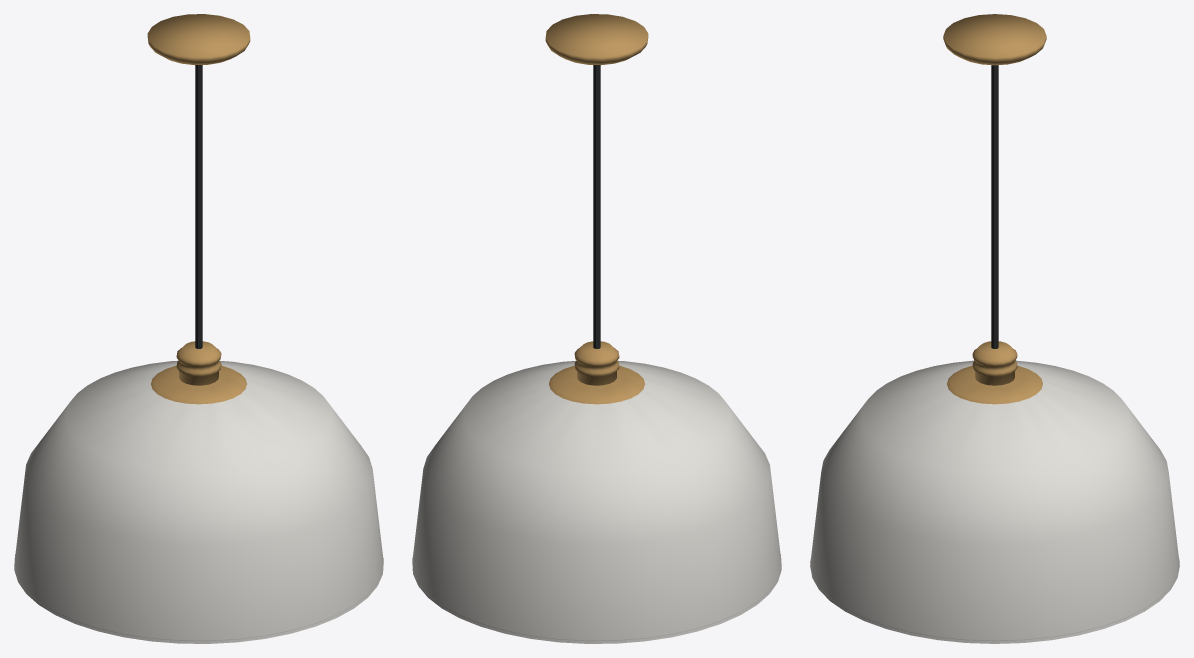
File: ceilingPendant.glb
3 renders of one model, left to right at view 1: azimuth 30°, elevation 25°; view 2: azimuth 150°, elevation 25°; view 3: azimuth 270°, elevation 25°, orthographic.
Visible parts, largest first — view 1: ceilingPendant; view 2: ceilingPendant; view 3: ceilingPendant.
Boxes of the visible parts, x1,y1,x2,y2 form: ceilingPendant: (14, 14, 383, 643); ceilingPendant: (412, 14, 781, 643); ceilingPendant: (810, 14, 1179, 643).
Bounding box in the file's own units: 0.43 × 0.6812 × 0.43.
